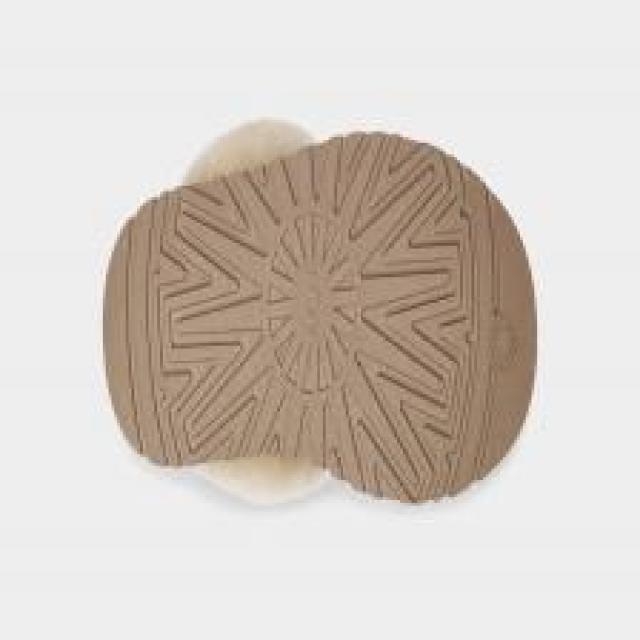shoe: (102, 118, 538, 504)
